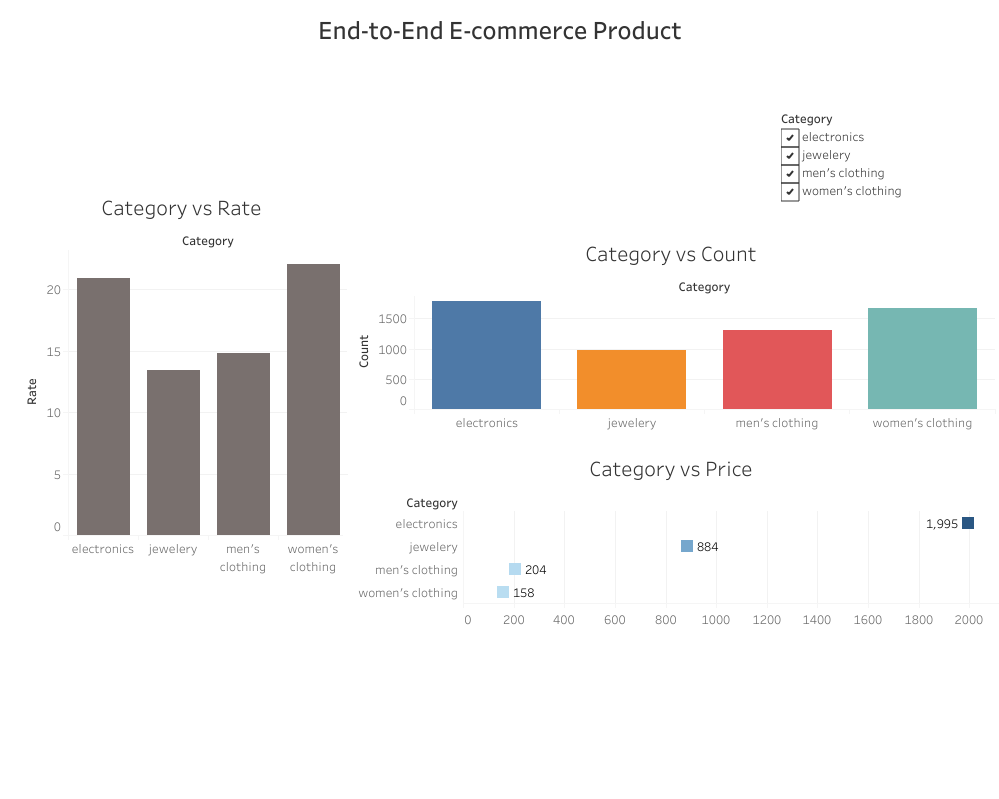

Layout of this report page (visuals, bound fields, positions):
{"tool":"tableau","page":{"name":"Dashboard 1","canvas":[1000,800],"ordinal":0},"visuals":[{"type":"title","box":[8,8,984,42]},{"type":"worksheet","title":"Sheet 4","mark":"Automatic","box":[35,12,115,7]},{"type":"filter","title":"Sheet 4","param":"[federated.1wv2an50lgm6pe16arldg1bwgg9w].[none:category:nk]","box":[781,108,194,125]},{"type":"worksheet","title":"Sheet 1","mark":"Bar","rows":["rate"],"cols":["category"],"box":[15,187,333,388]},{"type":"worksheet","title":"Sheet 3","mark":"Automatic","rows":["count"],"cols":["category"],"box":[347,233,648,198]},{"type":"worksheet","title":"Sheet 2","mark":"Square","rows":["category"],"cols":["price"],"box":[343,448,656,185]}]}

Visuals, with their boxes in screenshot pixels (x1, y1, x2, y2), scaled from the page's 1000x800 canvas onto the 999x799 screenshot:
title: bbox=(8, 8, 991, 50)
"Sheet 4" worksheet: bbox=(35, 12, 150, 19)
"Sheet 4" filter: bbox=(780, 108, 974, 233)
"Sheet 1" worksheet (Bar marks): bbox=(15, 187, 348, 574)
"Sheet 3" worksheet: bbox=(347, 233, 994, 430)
"Sheet 2" worksheet (Square marks): bbox=(343, 447, 998, 632)
